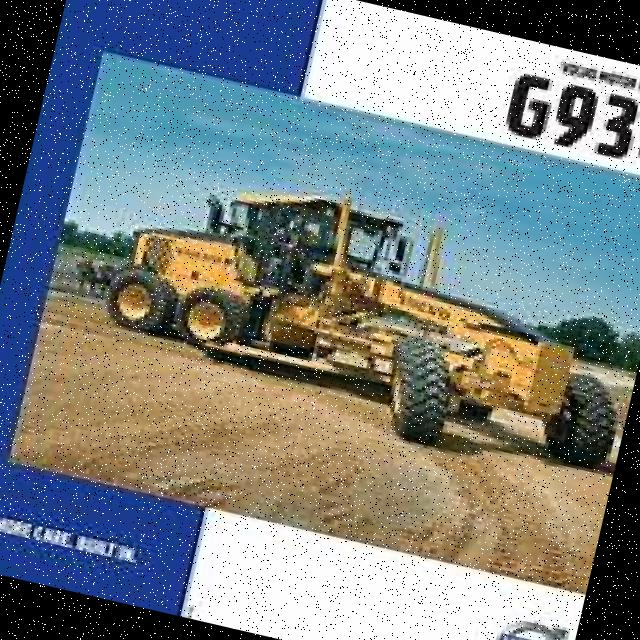Grader: (78, 132, 640, 490)
